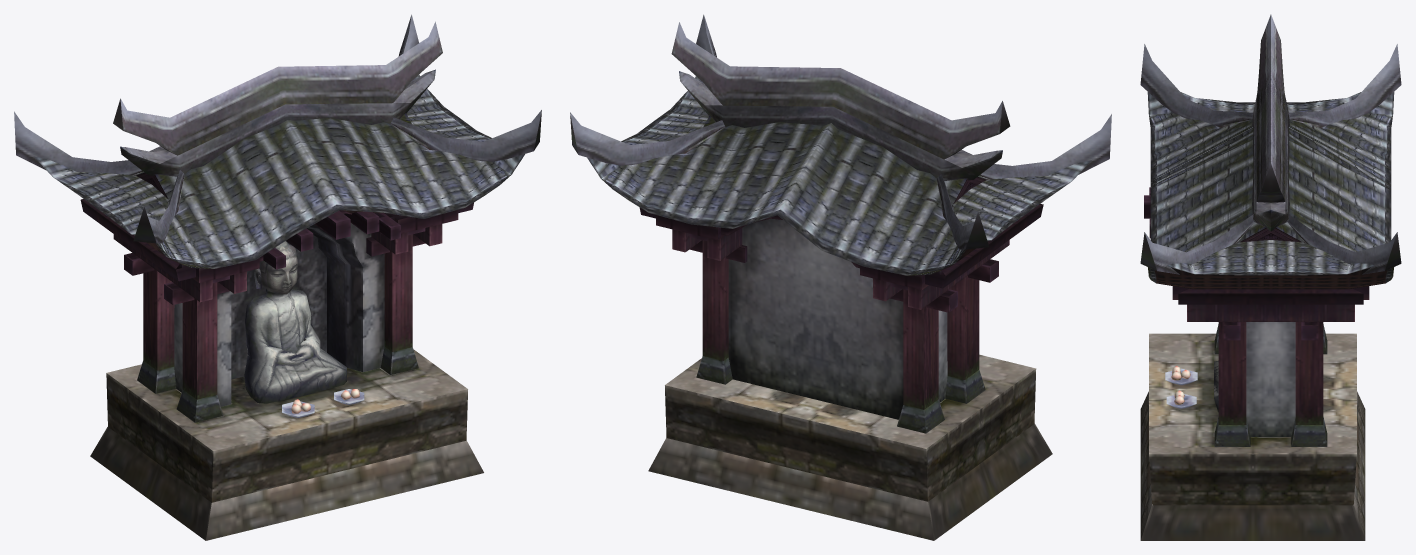
The model's file is xcz_jz_08_LOD1.FBX.
3 views of the same model, side by side, from view 1: azimuth 30°, elevation 25°; view 2: azimuth 150°, elevation 25°; view 3: azimuth 270°, elevation 25° (orthographic). The views are drawn at different scales.
Parts seen in each view (by area): view 1: xcz_jz_08_LOD1; view 2: xcz_jz_08_LOD1; view 3: xcz_jz_08_LOD1.
Boxes of the visible parts, x1,y1,x2,y2 form: xcz_jz_08_LOD1: (14, 14, 541, 540); xcz_jz_08_LOD1: (570, 14, 1111, 540); xcz_jz_08_LOD1: (1140, 14, 1401, 540).
Bounding box in the file's own units: 1449 × 1356 × 830.
